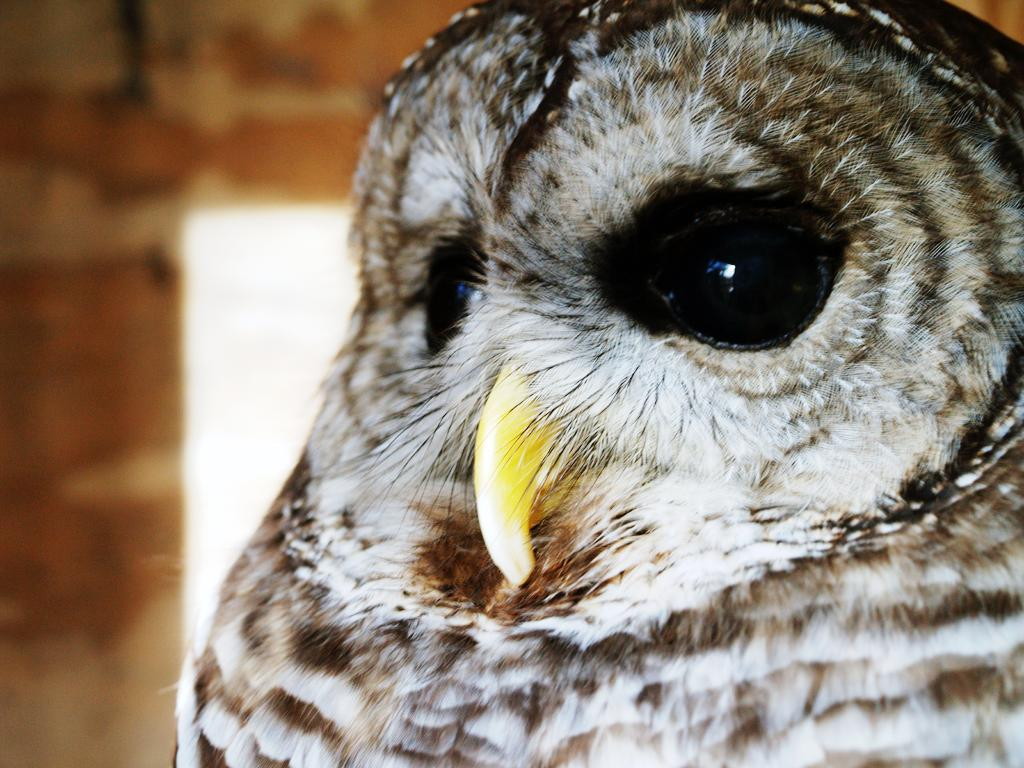Owl: (174, 0, 1024, 768)
